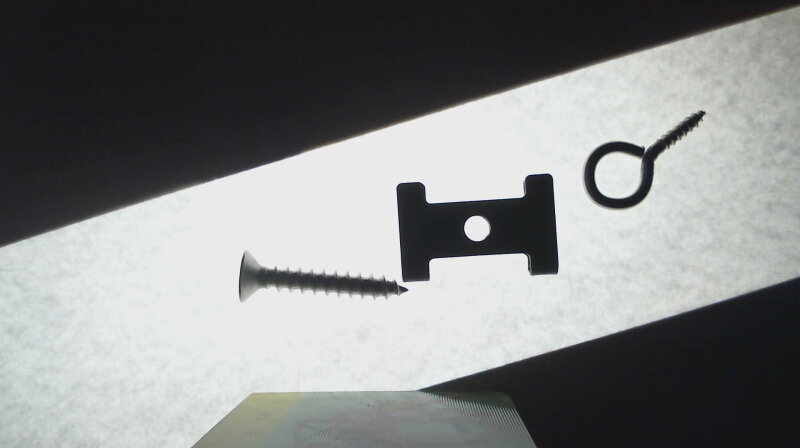O001: (577, 107, 711, 213)
O002: (393, 171, 565, 282)
S001: (234, 247, 412, 303)
